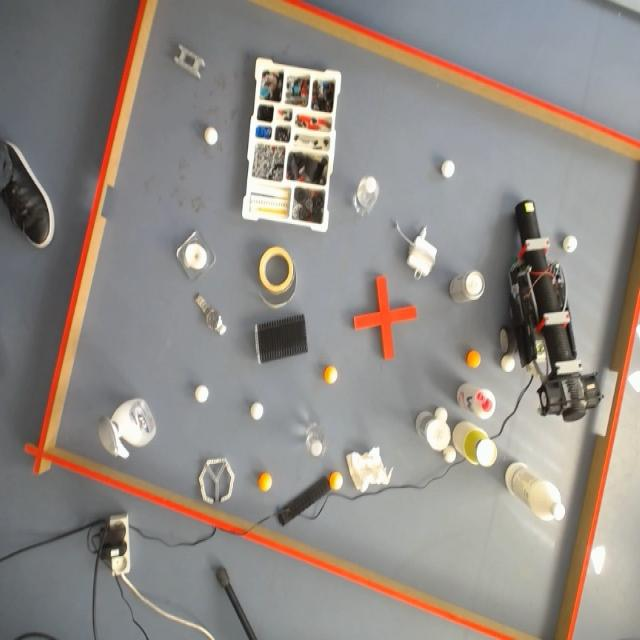orange: (323, 364, 338, 385), (257, 472, 272, 492), (466, 348, 481, 368), (330, 470, 342, 491)
robot: (501, 201, 602, 422)
robot-front: (522, 201, 536, 215)
white: (438, 157, 458, 183), (192, 382, 212, 407), (248, 399, 266, 424), (502, 353, 517, 373), (564, 235, 579, 253), (444, 443, 456, 464), (204, 127, 218, 145), (436, 408, 448, 422)
